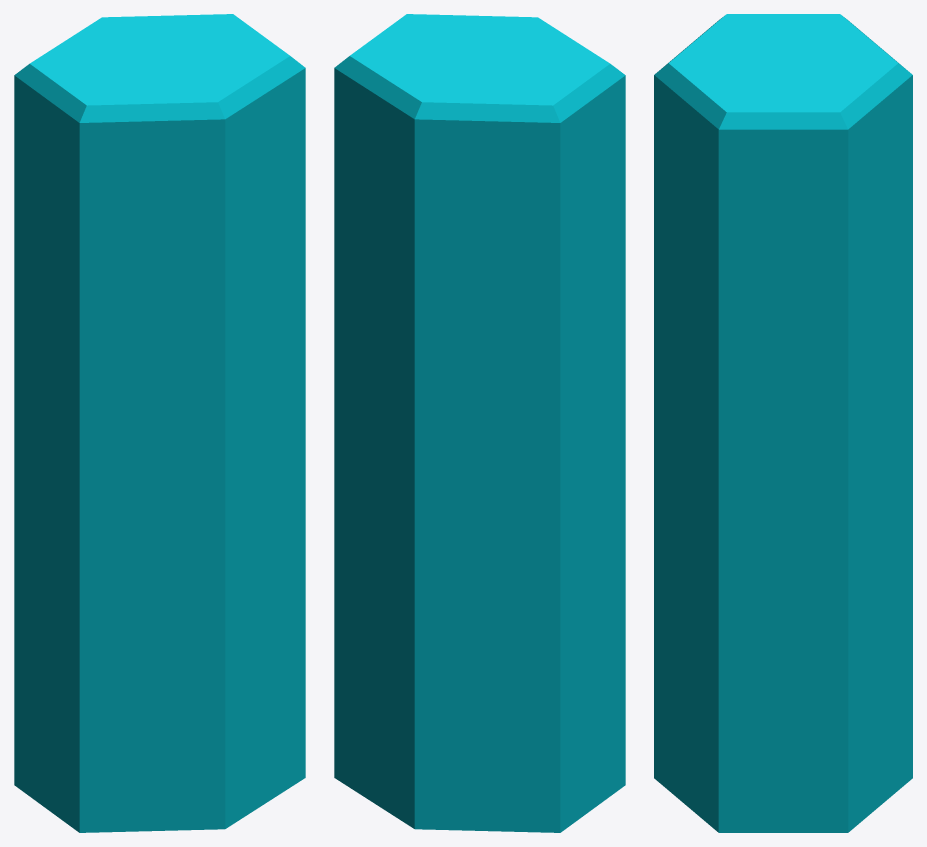
The model's file is Hexagon_B2.fbx.
The picture shows the model from 3 angles, left to right: view 1: azimuth 30°, elevation 25°; view 2: azimuth 150°, elevation 25°; view 3: azimuth 270°, elevation 25°; orthographic projection.
Parts seen in each view (by area): view 1: Hexagon_B2; view 2: Hexagon_B2; view 3: Hexagon_B2.
Boxes of the visible parts, x1=… form: Hexagon_B2: x1=14, y1=14, x2=305, y2=832; Hexagon_B2: x1=334, y1=14, x2=625, y2=832; Hexagon_B2: x1=654, y1=14, x2=912, y2=832.
Bounding box in the file's own units: 100 × 305 × 100.
